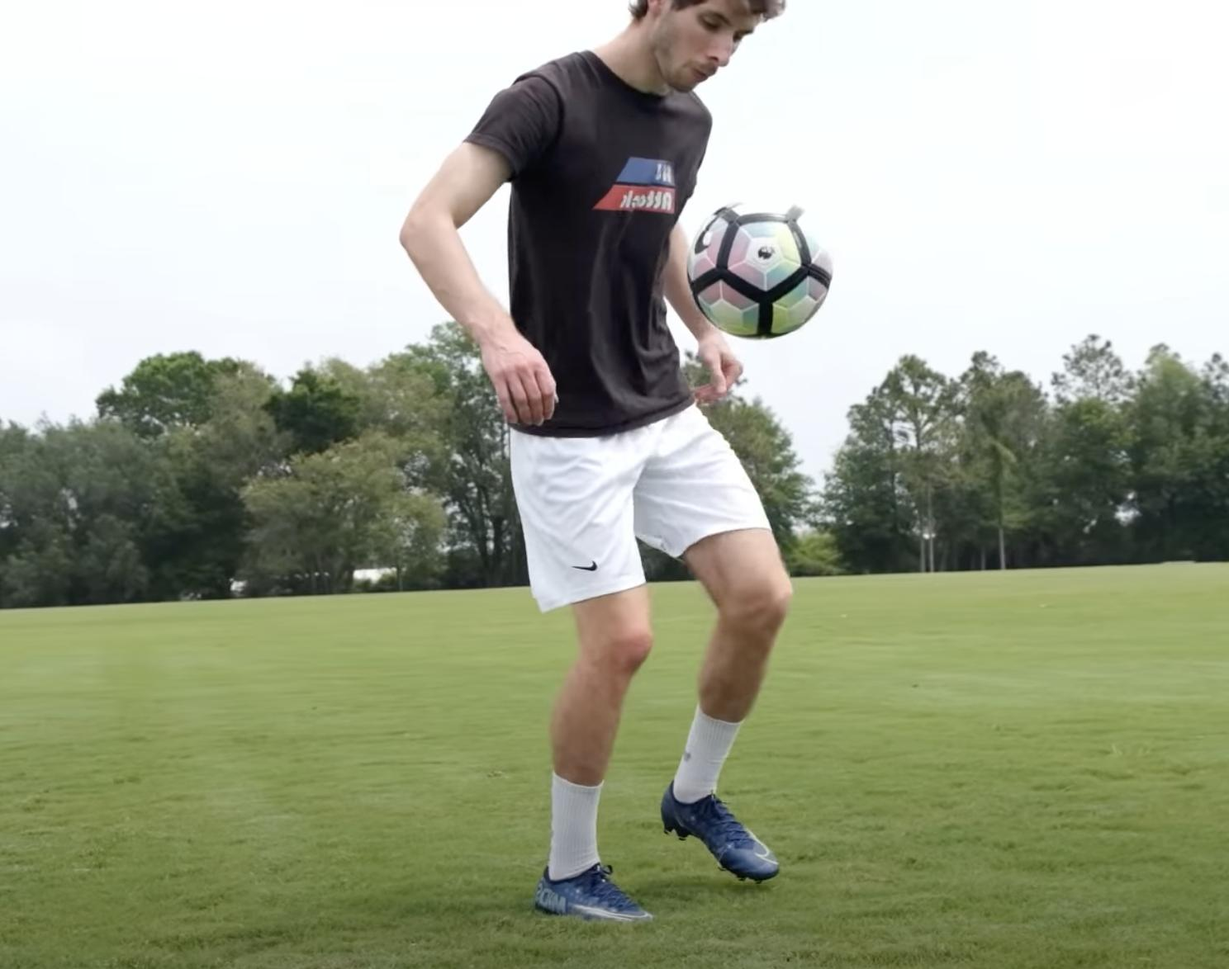ball: (686, 199, 834, 340)
foot: (654, 784, 783, 885), (534, 863, 657, 921)
person: (400, 0, 796, 951)
